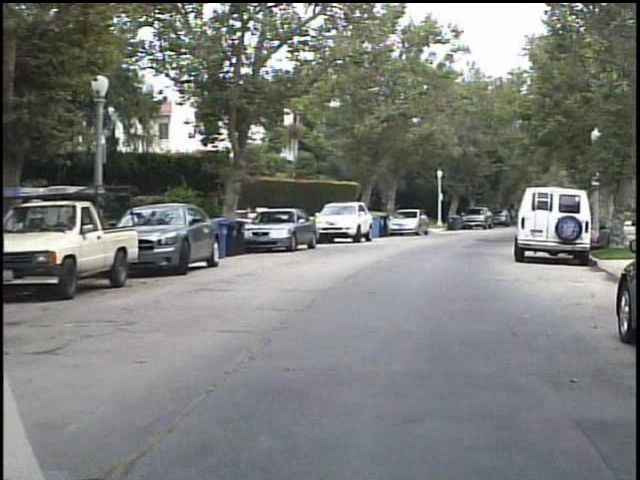person: (595, 222, 615, 254)
